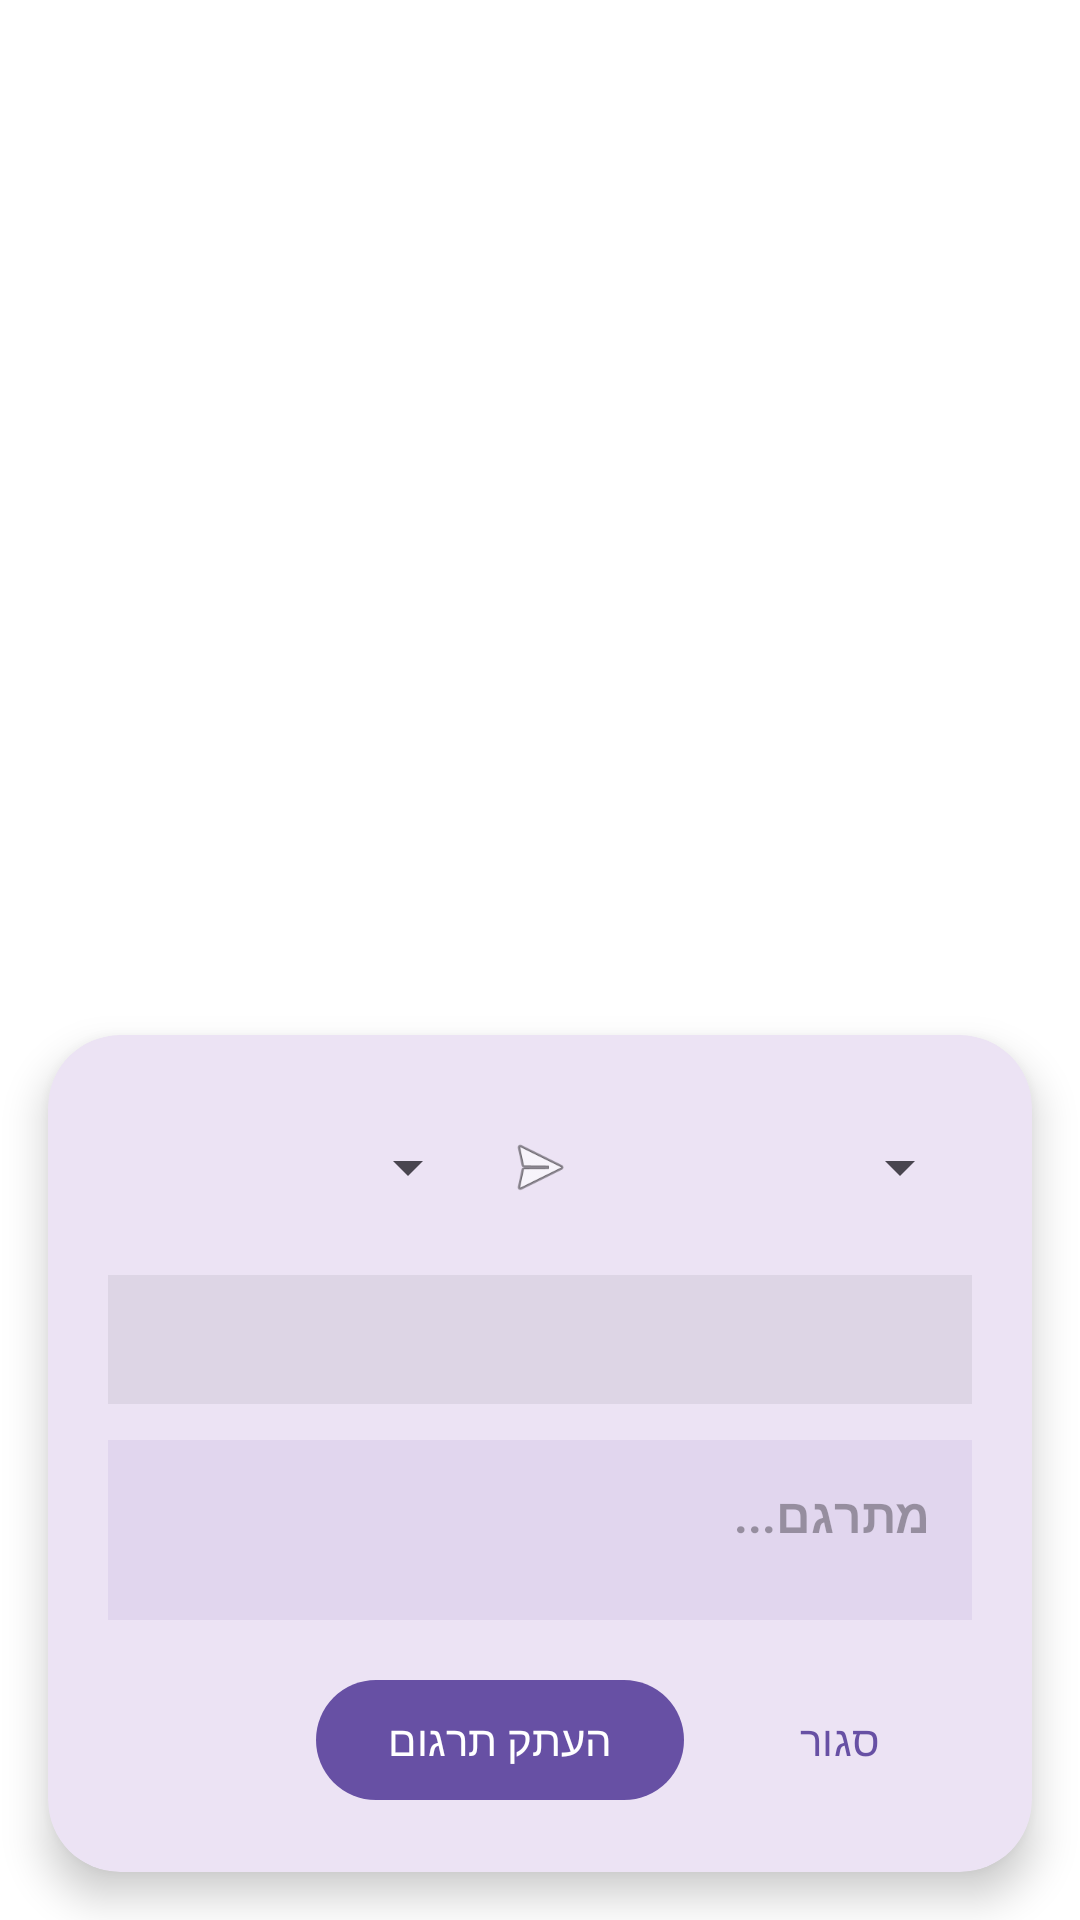

Icons on this 1080 × 1920 Android screen, each with the point to tap as (x,y):
send: (541,1167)
